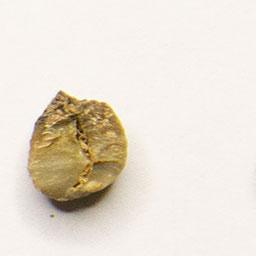defect: (17, 81, 133, 211)
